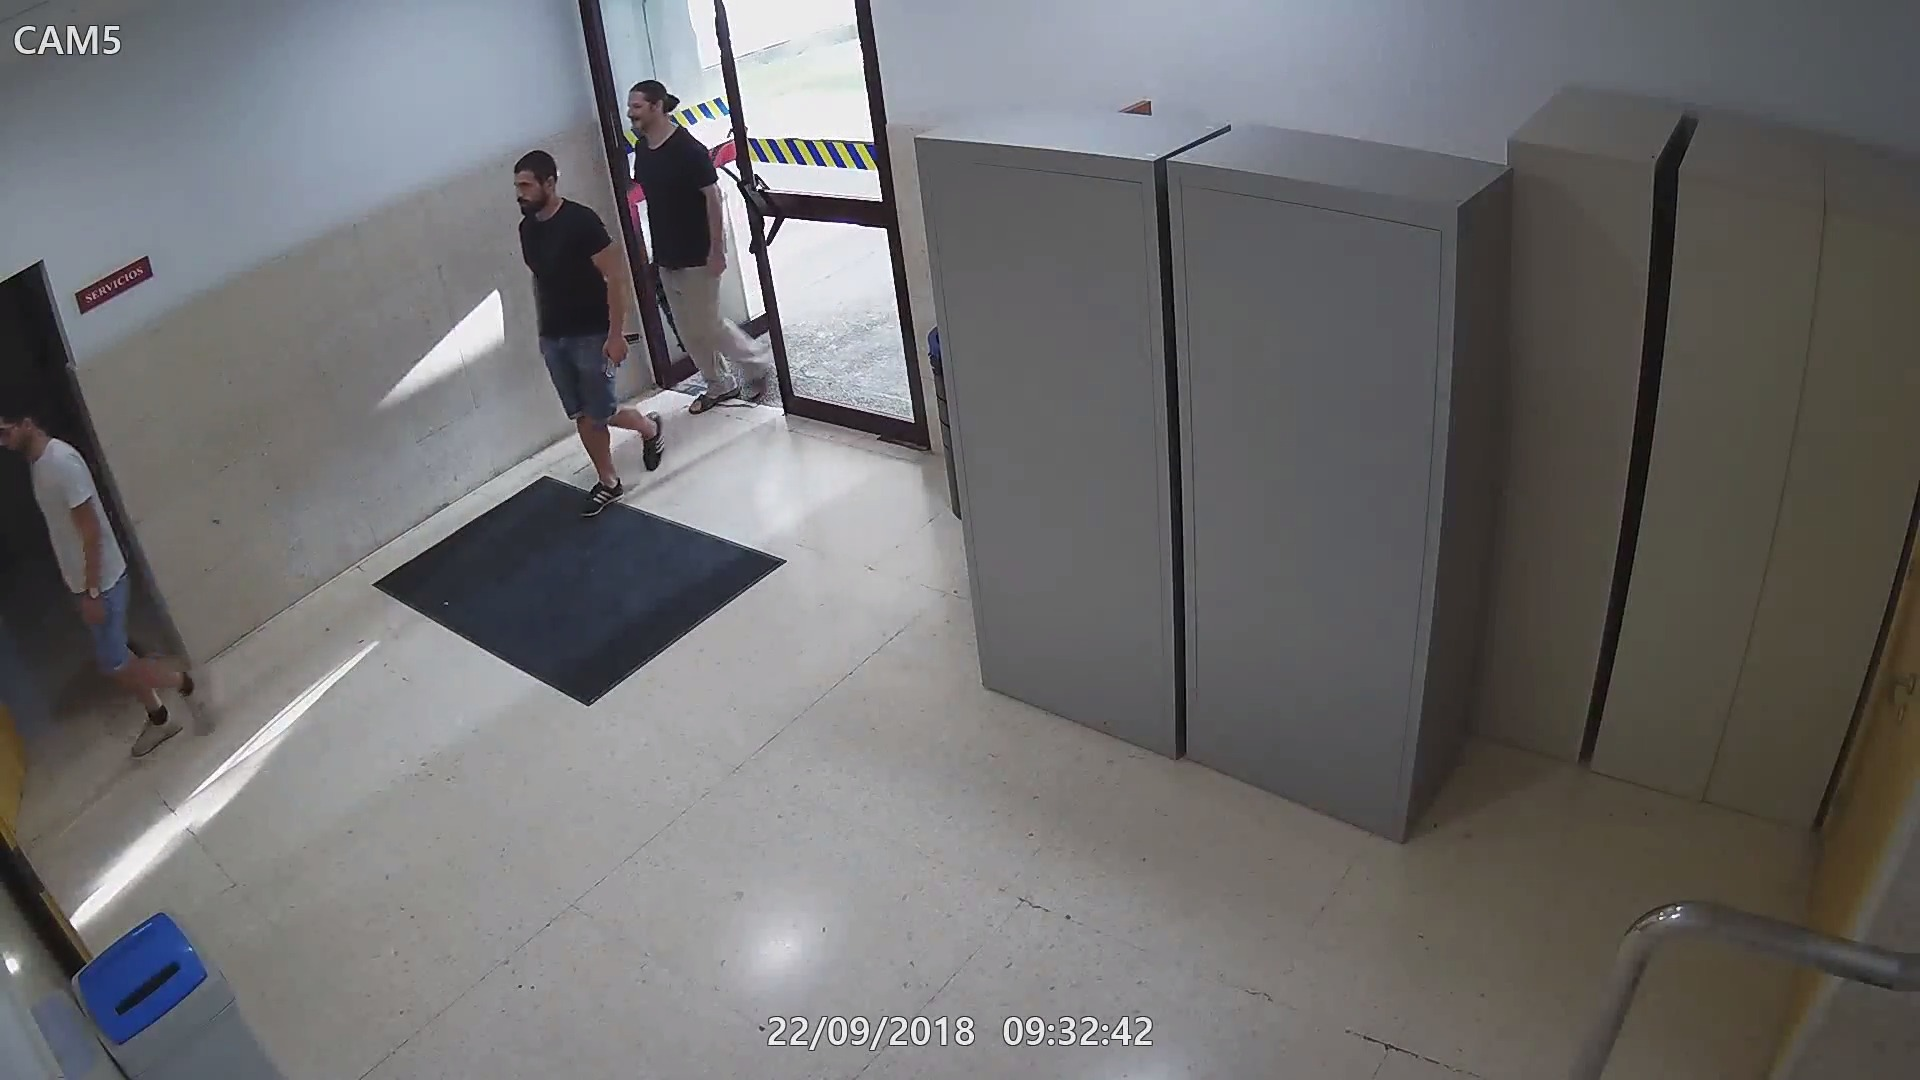Handgun: (600, 328, 642, 384)
Short_rifle: (644, 255, 687, 357)
